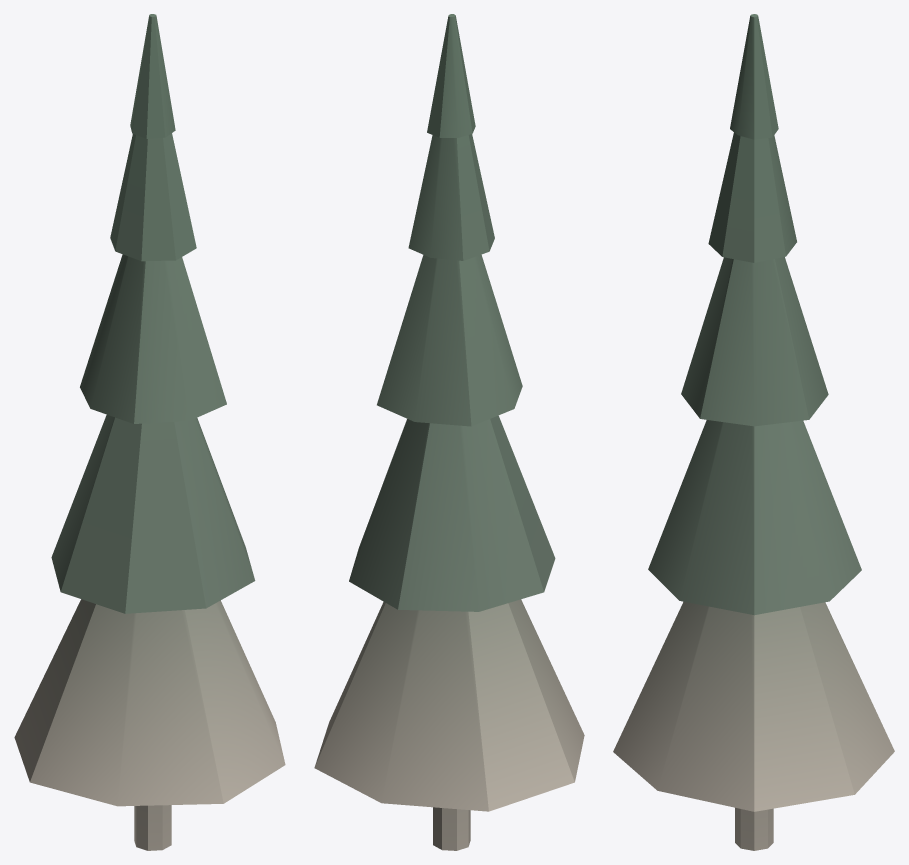
File: flora_cypress_01_mesh_1800.glb
3 renders of one model, left to right at view 1: azimuth 30°, elevation 25°; view 2: azimuth 150°, elevation 25°; view 3: azimuth 270°, elevation 25°, orthographic.
Parts seen in each view (by area): view 1: flora_cypress; view 2: flora_cypress; view 3: flora_cypress.
Part boxes in pixels (x1,y1,x2,y2): flora_cypress: (14, 14, 285, 850); flora_cypress: (314, 14, 584, 850); flora_cypress: (613, 14, 894, 850).
Size of the model in its own units: 1.91 by 6.14 by 1.9.
